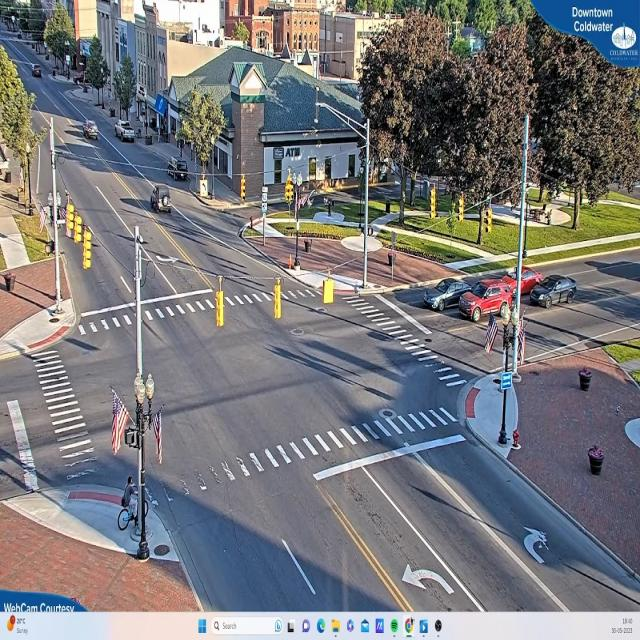car: (458, 282, 514, 324), (422, 277, 462, 313), (535, 276, 575, 306), (506, 266, 546, 296), (152, 184, 172, 214), (165, 158, 189, 180), (116, 124, 136, 143), (82, 122, 98, 142)
